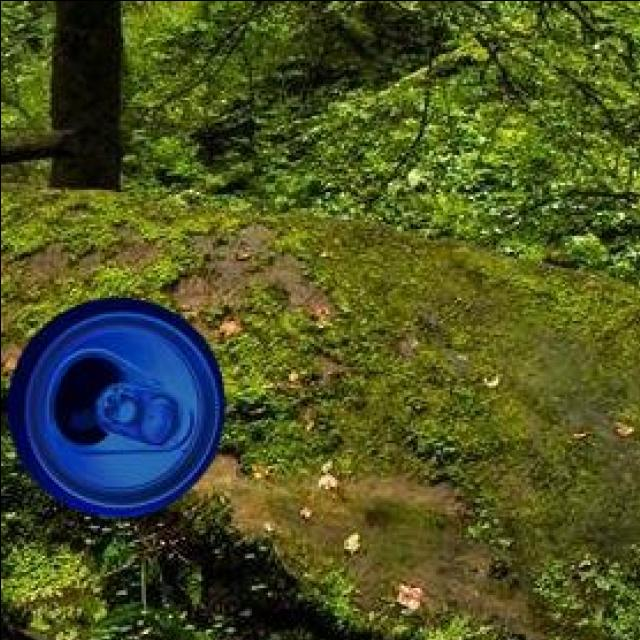logam: (3, 294, 220, 512)
